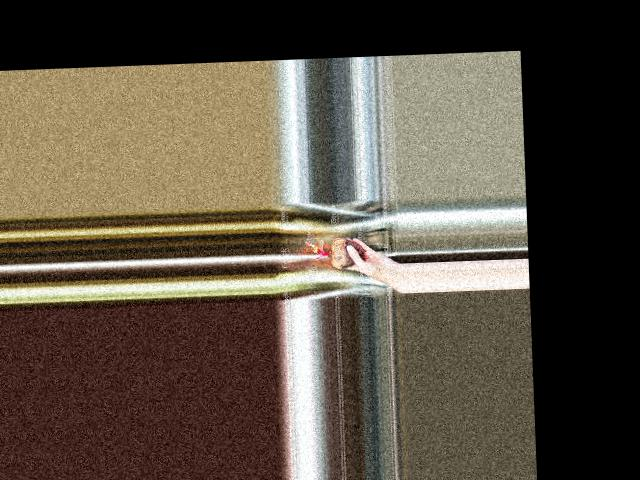beet: (305, 236, 364, 269)
